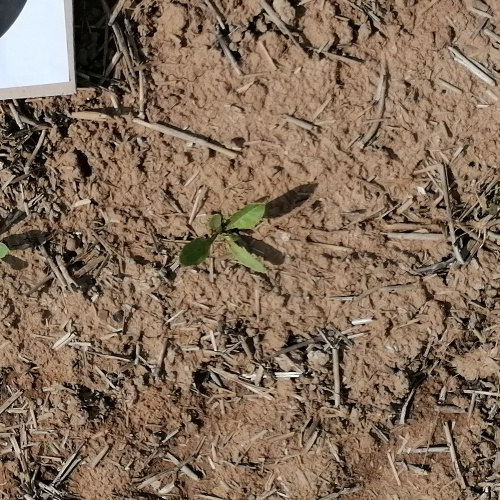beet: (180, 201, 267, 275), (0, 242, 11, 261)
